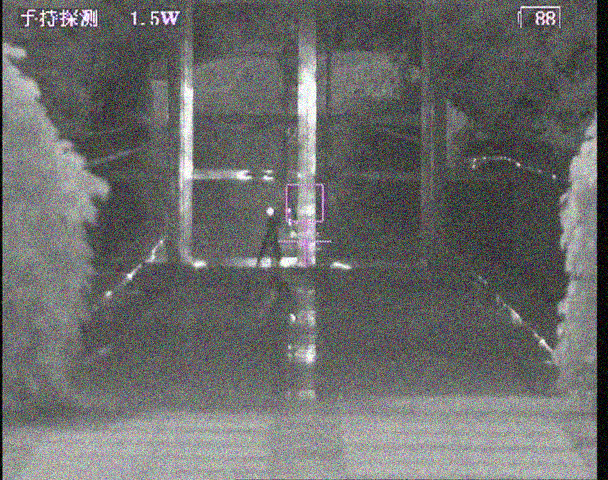my: (264, 206, 275, 217)
